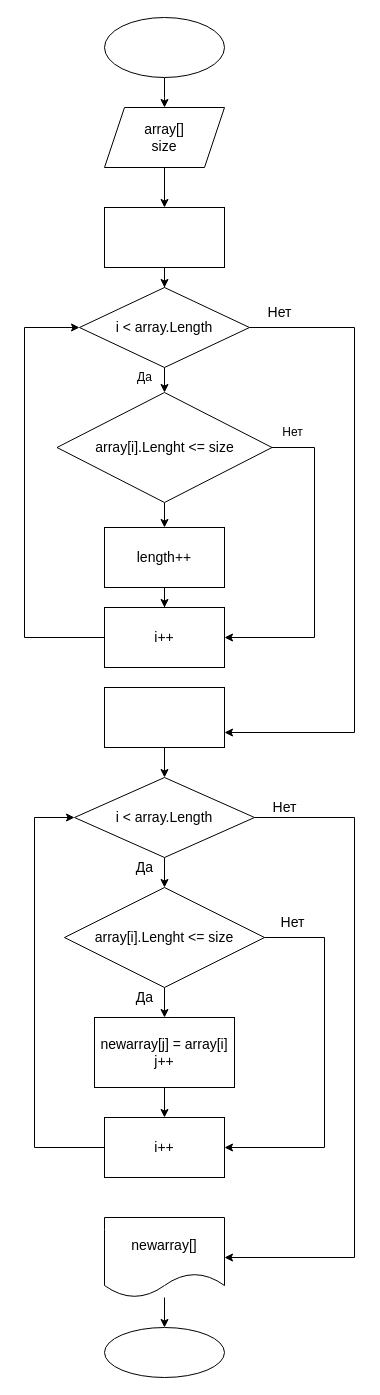
Image size: 380x1395. Some labels were removed from this diagram. Each missing label, with the centre of its shape:
"i = 0 length = 0" goes at (164,237).
"newarray[lenght] i = 0 j = 0" goes at (164,717).
"конец" goes at (164,1352).
"начало" goes at (164,47).
